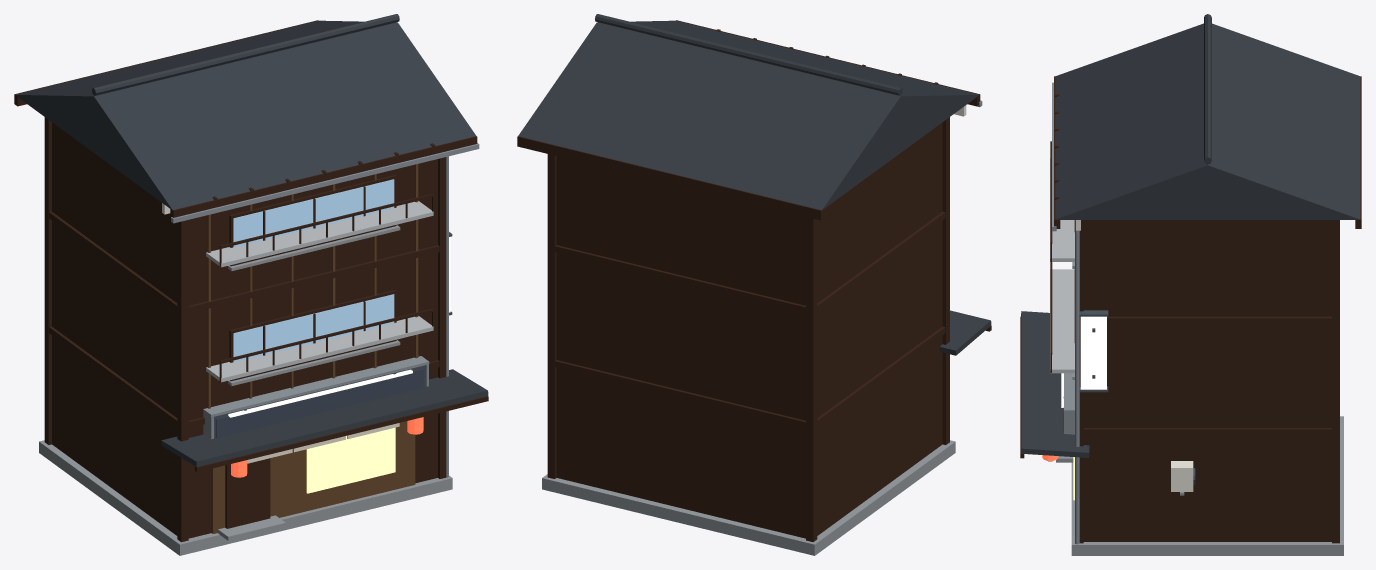
Rendered from shop_kappo_3f.glb.
The picture shows the model from 3 angles, left to right: view 1: azimuth 30°, elevation 25°; view 2: azimuth 150°, elevation 25°; view 3: azimuth 270°, elevation 25°; orthographic projection. The views are drawn at different scales.
Parts seen in each view (by area): view 1: body.043, roof.020, eave.020, panel.011, base.044, win_glass.058, win_glass.057, panel_glass.011, sign_face.037, balcony_slab.048, balcony_slab.047, post.172 (+21 smaller); view 2: body.043, roof.020, base.044, post.173, eave_back.020, beam.096, beam.097, post.175, ridge.020, post.172, eave.020; view 3: body.043, roof.020, eave.020, base.044, post.175, balcony_slab.047, blade_board.012, beam.097, beam.096, downpipe.019, post.174, ridge.020 (+3 smaller).
Part boxes in pixels (x1,y1,x2,y2): body.043: (52, 122, 437, 538); roof.020: (15, 20, 476, 209); eave.020: (161, 369, 488, 466); panel.011: (211, 421, 415, 533); base.044: (39, 440, 452, 555); win_glass.058: (233, 179, 394, 247); win_glass.057: (233, 294, 394, 362); panel_glass.011: (306, 427, 395, 493); sign_face.037: (215, 368, 424, 438); balcony_slab.048: (206, 201, 433, 267); balcony_slab.047: (206, 316, 433, 382); post.172: (177, 220, 188, 542); body.043: (556, 122, 942, 538); roof.020: (518, 20, 979, 210); base.044: (542, 440, 955, 555); post.173: (806, 217, 817, 541); eave_back.020: (517, 136, 824, 220); beam.096: (555, 326, 945, 428); beam.097: (555, 211, 945, 313); post.175: (547, 154, 556, 478); ridge.020: (595, 14, 902, 95); post.172: (942, 117, 949, 444); eave.020: (939, 310, 991, 355); body.043: (1083, 220, 1331, 541); roof.020: (1055, 23, 1360, 219); eave.020: (1021, 311, 1089, 457); base.044: (1071, 416, 1343, 555); post.175: (1332, 220, 1339, 543); balcony_slab.047: (1050, 269, 1074, 373); blade_board.012: (1080, 316, 1106, 389); beam.097: (1107, 316, 1331, 323); beam.096: (1083, 428, 1331, 434); downpipe.019: (1075, 220, 1079, 544); post.174: (1079, 220, 1083, 543); ridge.020: (1204, 14, 1211, 164).
Size of the model in its own units: 8.5 by 11.15 by 8.5.
